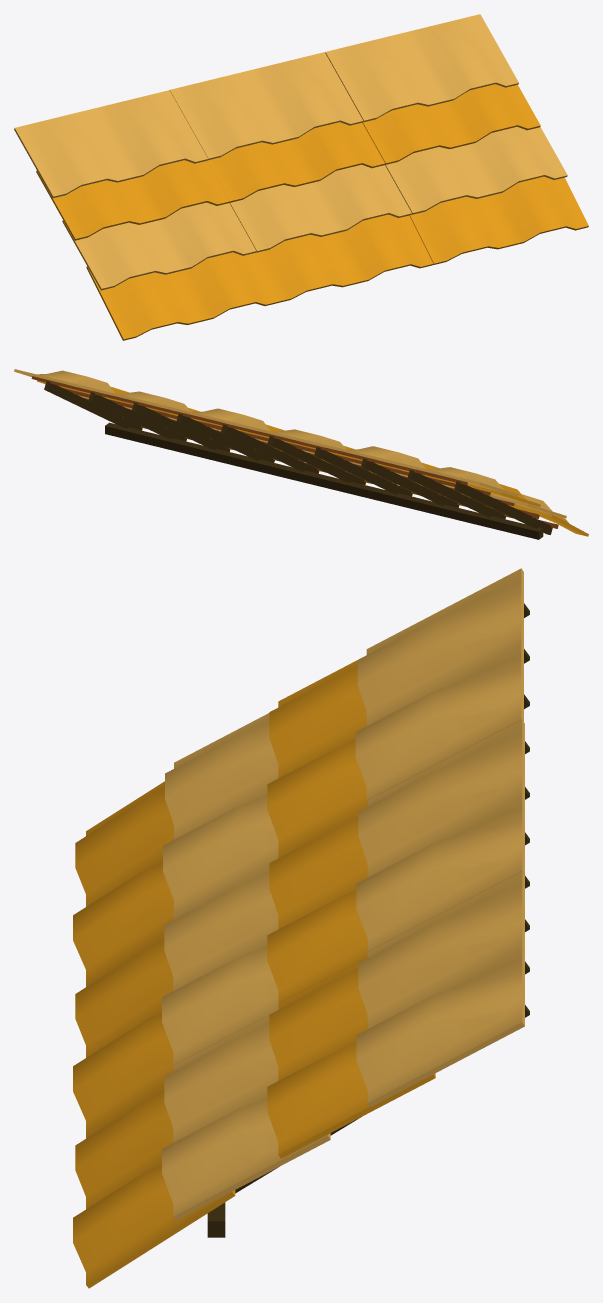
File: krovni pokrivac 2x3.FBX
3 views of the same model, one above another, from view 1: azimuth 30°, elevation 25°; view 2: azimuth 150°, elevation 25°; view 3: azimuth 270°, elevation 25° (orthographic). The views are drawn at different scales.
Parts seen in each view (by area): view 1: Box523, Box522; view 2: Box525, Box523, Box524, Box522; view 3: Box523, Box522, Box525.
Part boxes in pixels (bbox=[...]): Box523: bbox=[14, 14, 567, 290]; Box522: bbox=[36, 84, 588, 340]; Box525: bbox=[44, 381, 552, 539]; Box523: bbox=[14, 369, 566, 518]; Box524: bbox=[31, 376, 558, 528]; Box522: bbox=[37, 380, 588, 536]; Box523: bbox=[162, 568, 524, 1220]; Box522: bbox=[73, 660, 435, 1288]; Box525: bbox=[207, 603, 529, 1237].
Size of the model in its own units: 602 by 165 by 256.
